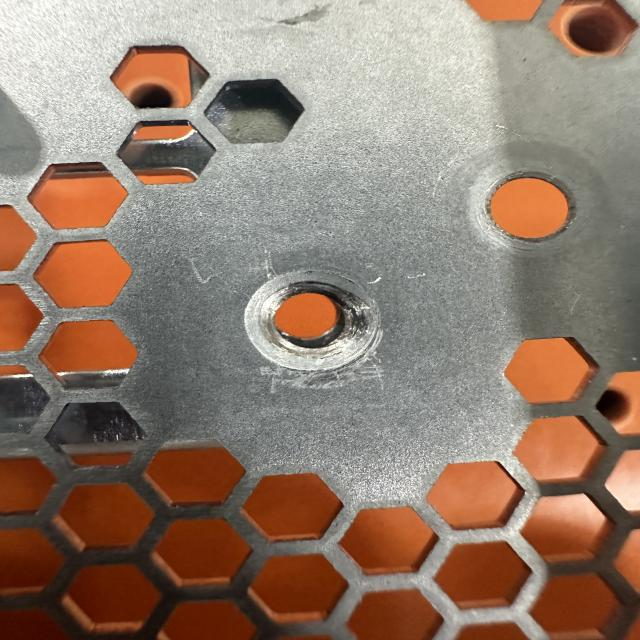Missing screw: (229, 262, 403, 384)
